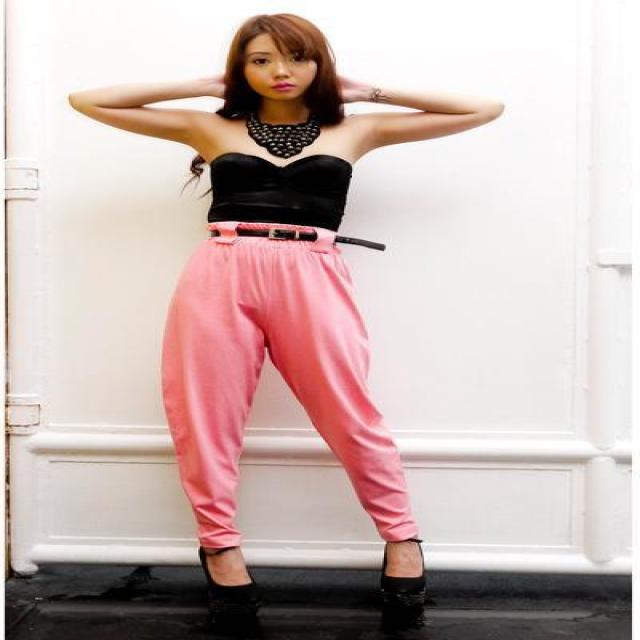pants: (162, 220, 422, 570)
shirt: (190, 153, 350, 240)
shoe: (381, 576, 427, 608)
